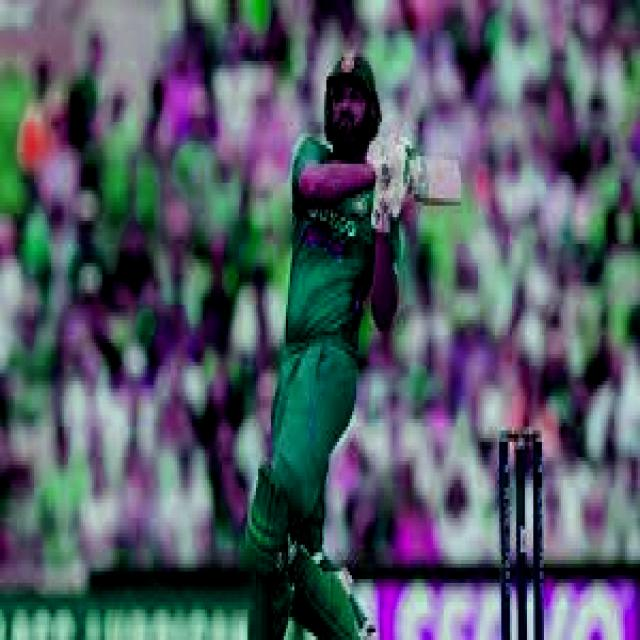toe: (450, 152, 466, 206)
